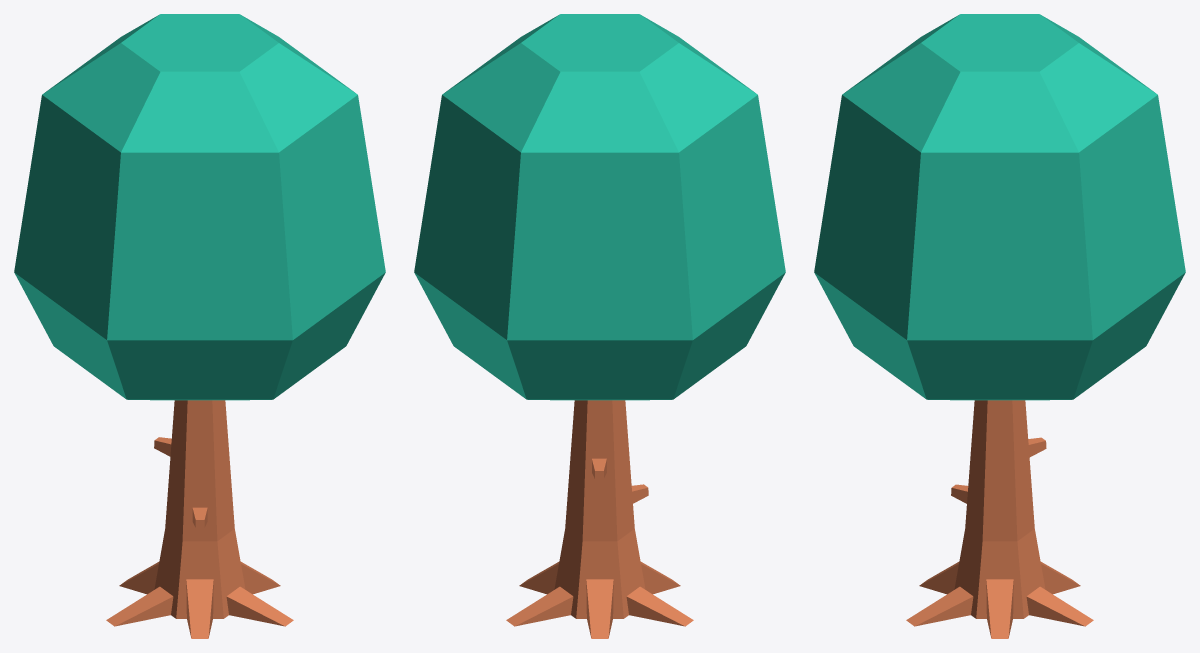
The model's file is roble.glb.
3 views of the same model, side by side, from view 1: azimuth 30°, elevation 25°; view 2: azimuth 150°, elevation 25°; view 3: azimuth 270°, elevation 25° (orthographic).
Visible parts, largest first — view 1: roble; view 2: roble; view 3: roble.
Boxes of the visible parts, left/top/right/bottom form: roble: left=14, top=14, right=385, bottom=638; roble: left=414, top=14, right=785, bottom=638; roble: left=814, top=14, right=1185, bottom=638.
Bounding box in the file's own units: 4.7 × 9 × 5.43.
1 material, 1 textured.
